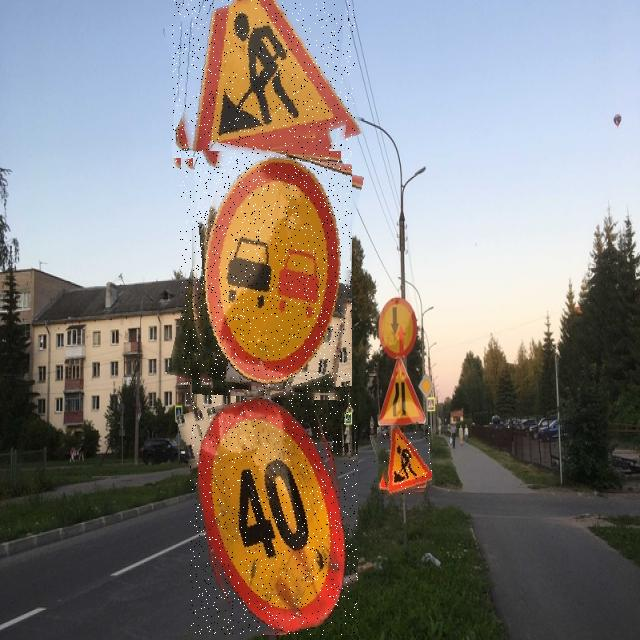no overtaking: (180, 151, 352, 401)
roadwork: (172, 0, 355, 169), (373, 425, 432, 496)
speed limit 40: (190, 387, 358, 635)
